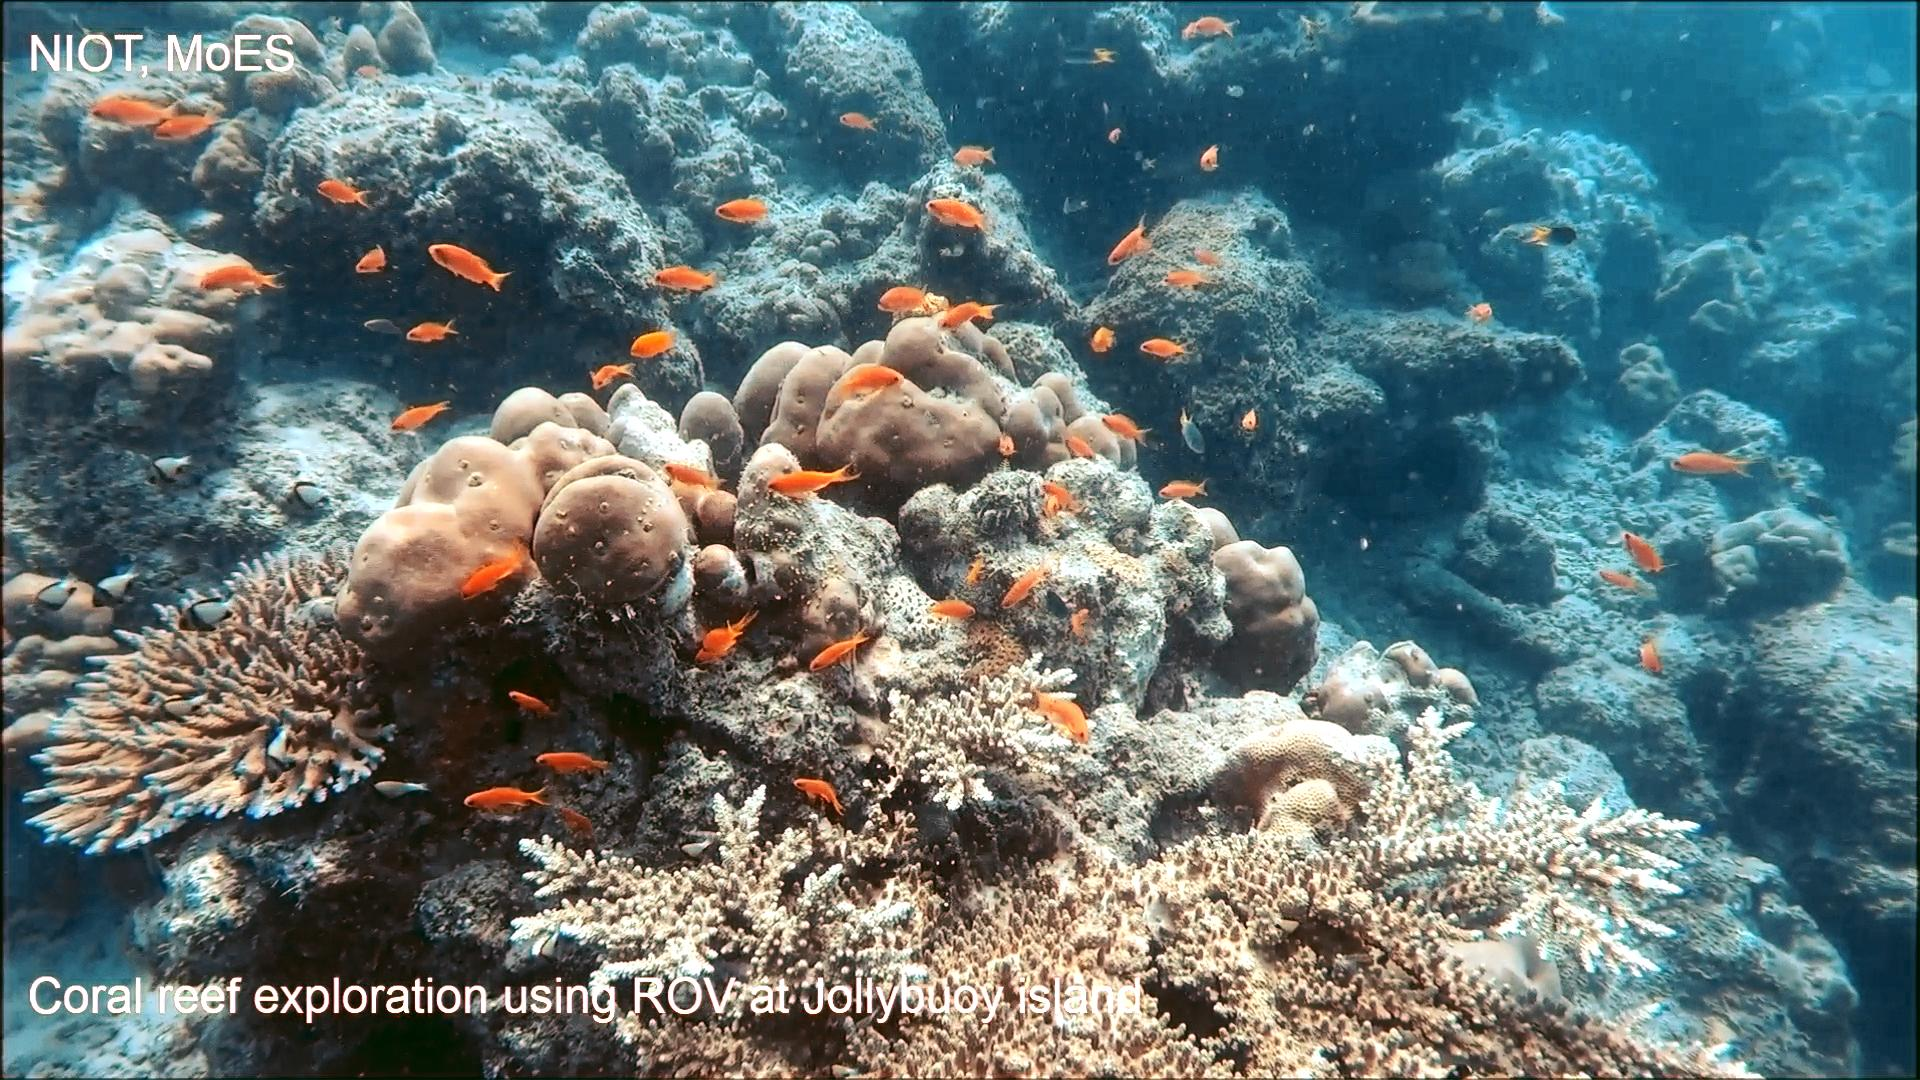Porites-Porites pukoensis: (328, 382, 699, 679), (704, 301, 1139, 508)
